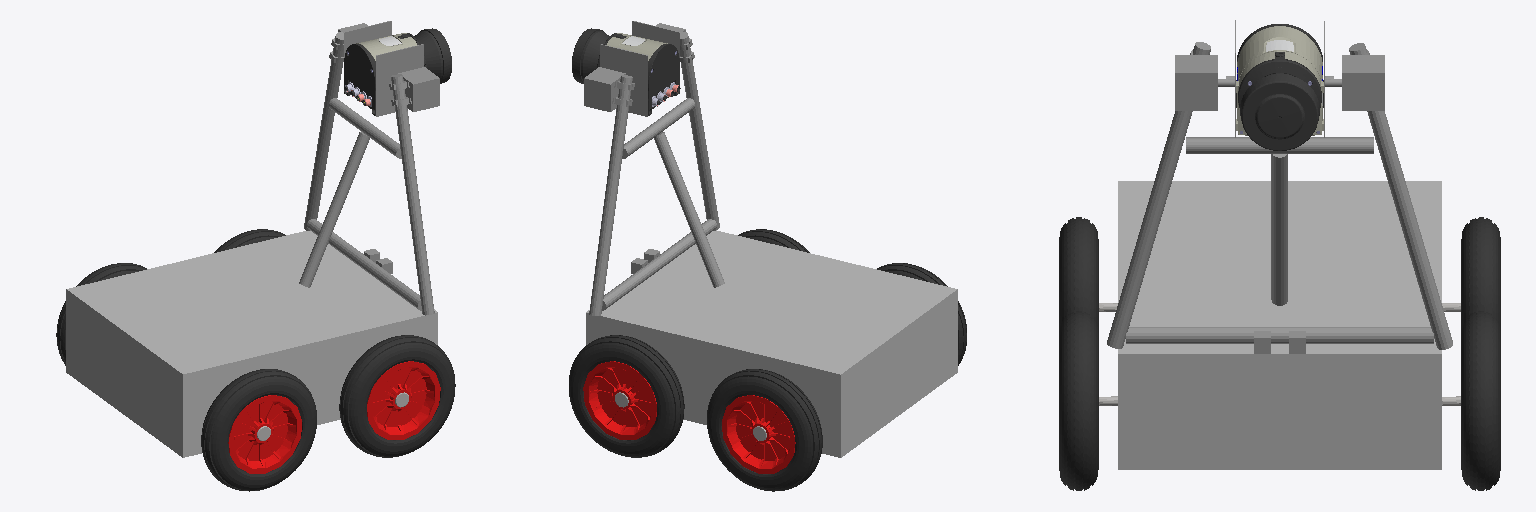
URDF robot description (example):
<?xml version="1.0" ?>
<robot name="example">

    <link name="chassis">
        <inertial>
            <mass value="6"/>
            <origin xyz="0 0 0" rpy="0 0 0"/>
            <inertia ixx="0.08500000" ixy="0" ixz="0" iyy="0.02500000" iyz="0" izz="0.10000000"/>
        </inertial>
        <collision name="chassis_collision">
            <origin xyz="0 0 0" rpy="0 0 0"/>
            <geometry>
                <mesh filename="package://example_description/meshes/rover.dae" scale="1 1 1"/>
            </geometry>
        </collision>
        <visual name="chassis_visual">
            <origin xyz="0 0 0" rpy="0 0 0"/>
            <geometry>
                <mesh filename="package://example_description/meshes/rover.dae" scale="1 1 1"/>
            </geometry>
        </visual>
    </link>

    <link name="dummy"/>
    <joint name="dummy_link" type="fixed">
        <parent link="chassis"/>
        <child link="dummy"/>
        <origin xyz="0 0 0" rpy="0 0 0"/>
    </joint>
    <!--Left Front Wheel-->

    <link name="left_front_wheel">
        <inertial>
            <mass value="0.5"/>
            <origin xyz="0 0 0" rpy="0 0 -1.570796"/>
            <inertia ixx="0.00357413" ixy="0" ixz="0" iyy="0.00508627" iyz="0" izz="0.00838547"/>
        </inertial>

        <collision name="left_front_wheel_collision">
            <origin xyz="0 0 0" rpy="0 0 -1.570796"/>
            <geometry>
                <mesh filename="package://example_description/meshes/wheel.dae" scale="1 1 1"/>
            </geometry>
            <surface>
                <friction>
                    <ode>
                        <mu>0.01</mu>
                        <mu2>0.01</mu2>
                    </ode>
                </friction>
            </surface>
        </collision>

        <visual name="left_front_wheel_visual">
            <origin xyz="0 0 0" rpy="0 0 -1.570796"/>
            <geometry>
                <mesh filename="package://example_description/meshes/wheel.dae" scale="1 1 1"/>
            </geometry>
        </visual>
    </link>

    <joint name="left_front_wheel_joint" type="revolute">
        <parent link="chassis"/>
        <child link="left_front_wheel"/>
        <origin xyz="1.3 1.9 0.35" rpy="0 0 0"/>
        <axis xyz="0 1 0"/>
        <limit lower="-9999999999999999" upper="9999999999999999" effort="2000.0" velocity="10.0"/>
    </joint>

    <transmission name="t_left_front_wheel">
        <type>transmission_interface/SimpleTransmission</type>
        <joint name="left_front_wheel_joint">
            <hardwareInterface>hardware_interface/VelocityJointInterface</hardwareInterface>
        </joint>
        <actuator name="m_left_front_wheel">
            <mechanicalReduction>1</mechanicalReduction>
            <hardwareInterface>hardware_interface/VelocityJointInterface</hardwareInterface>
        </actuator>
    </transmission>

    <!--Right Front Wheel-->
    <link name="right_front_wheel">
        <inertial>
            <mass value="0.5"/>
            <origin xyz="0 0 0" rpy="0 0 1.570796"/>
            <inertia ixx="0.00357413" ixy="0" ixz="0" iyy="0.00508627" iyz="0" izz="0.00838547"/>
        </inertial>

        <collision name="right_front_wheel_collision">
            <origin xyz="0 0 0" rpy="0 0 1.570796"/>
            <geometry>
                <mesh filename="package://example_description/meshes/wheel.dae" scale="1 1 1"/>
            </geometry>
            <surface>
                <friction>
                    <ode>
                        <mu>0.01</mu>
                        <mu2>0.01</mu2>
                    </ode>
                </friction>
            </surface>
        </collision>

        <visual name="right_front_wheel_visual">
            <origin xyz="0 0 0" rpy="0 0 1.570796"/>
            <geometry>
                <mesh filename="package://example_description/meshes/wheel.dae" scale="1 1 1"/>
            </geometry>
        </visual>
    </link>

    <joint name="right_front_wheel_joint" type="revolute">
        <parent link="chassis"/>
        <child link="right_front_wheel"/>
        <origin xyz="1.3 -1.9 0.35" rpy="0 0 0"/>
        <axis xyz="0 1 0"/>
        <limit lower="-9999999999999999" upper="9999999999999999" effort="2000.0" velocity="10.0"/>
    </joint>

    <transmission name="t_right_front_wheel">
        <type>transmission_interface/SimpleTransmission</type>
        <joint name="right_front_wheel_joint">
            <hardwareInterface>hardware_interface/VelocityJointInterface</hardwareInterface>
        </joint>
        <actuator name="m_right_front_wheel">
            <mechanicalReduction>1</mechanicalReduction>
            <hardwareInterface>hardware_interface/VelocityJointInterface</hardwareInterface>
        </actuator>
    </transmission>

    <!--Left Back Wheel-->
    <link name="left_back_wheel">
        <inertial>
            <mass value="0.5"/>
            <origin xyz="0 0 0" rpy="0 0 -1.570796"/>
            <inertia ixx="0.00357413" ixy="0" ixz="0" iyy="0.00508627" iyz="0" izz="0.00838547"/>
        </inertial>

        <collision name="left_back_wheel_collision">
            <origin xyz="0 0 0" rpy="0 0 -1.570796"/>
            <geometry>
                <mesh filename="package://example_description/meshes/wheel.dae" scale="1 1 1"/>
            </geometry>
            <surface>
                <friction>
                    <ode>
                        <mu>0.01</mu>
                        <mu2>0.01</mu2>
                    </ode>
                </friction>
            </surface>
        </collision>

        <visual name="left_back_wheel_visual">
            <origin xyz="0 0 0" rpy="0 0 -1.570796"/>
            <geometry>
                <mesh filename="package://example_description/meshes/wheel.dae" scale="1 1 1"/>
            </geometry>
        </visual>
    </link>

    <joint name="left_back_wheel_joint" type="revolute">
        <parent link="chassis"/>
        <child link="left_back_wheel"/>
        <origin xyz="-1.3 1.9 0.35" rpy="0 0 0"/>
        <axis xyz="0 1 0"/>
        <limit lower="-9999999999999999" upper="9999999999999999" effort="2000.0" velocity="10.0"/>
    </joint>

    <transmission name="t_left_back_wheel">
        <type>transmission_interface/SimpleTransmission</type>
        <joint name="left_back_wheel_joint">
            <hardwareInterface>hardware_interface/VelocityJointInterface</hardwareInterface>
        </joint>
        <actuator name="m_left_back_wheel">
            <mechanicalReduction>1</mechanicalReduction>
            <hardwareInterface>hardware_interface/VelocityJointInterface</hardwareInterface>
        </actuator>
    </transmission>

    <!--Right Back Wheel-->
    <link name="right_back_wheel">
        <inertial>
            <mass value="0.5"/>
            <origin xyz="0 0 0" rpy="0 0 1.570796"/>
            <inertia ixx="0.00357413" ixy="0" ixz="0" iyy="0.00508627" iyz="0" izz="0.00838547"/>
        </inertial>

        <collision name="right_back_wheel_collision">
            <origin xyz="0 0 0" rpy="0 0 1.570796"/>
            <geometry>
                <mesh filename="package://example_description/meshes/wheel.dae" scale="1 1 1"/>
            </geometry>
            <surface>
                <friction>
                    <ode>
                        <mu>0.01</mu>
                        <mu2>0.01</mu2>
                    </ode>
                </friction>
            </surface>
        </collision>

        <visual name="right_back_wheel_visual">
            <origin xyz="0 0 0" rpy="0 0 1.570796"/>
            <geometry>
                <mesh filename="package://example_description/meshes/wheel.dae" scale="1 1 1"/>
            </geometry>
        </visual>
    </link>

    <joint name="right_back_wheel_joint" type="revolute">
        <parent link="chassis"/>
        <child link="right_back_wheel"/>
        <origin xyz="-1.3 -1.9 0.35" rpy="0 0 0"/>
        <axis xyz="0 1 0"/>
        <limit lower="-9999999999999999" upper="9999999999999999" effort="2000.0" velocity="10.0"/>
    </joint>

    <transmission name="t_right_back_wheel">
        <type>transmission_interface/SimpleTransmission</type>
        <joint name="right_back_wheel_joint">
            <hardwareInterface>hardware_interface/VelocityJointInterface</hardwareInterface>
        </joint>
        <actuator name="m_right_back_wheel">
            <mechanicalReduction>1</mechanicalReduction>
            <hardwareInterface>hardware_interface/VelocityJointInterface</hardwareInterface>
        </actuator>
    </transmission>

    <!--Frame-->

    <link name="Frame">
        <inertial>
            <mass value="0.5"/>
            <origin xyz="0 0 0" rpy="0 0 1.570796"/>
            <inertia ixx="0.00357413" ixy="0" ixz="0" iyy="0.00508627" iyz="0" izz="0.00838547"/>
        </inertial>

        <collision name="Frame_collision">
            <origin xyz="0 0 0" rpy="0 0 1.570796"/>
            <geometry>
                <mesh filename="package://example_description/meshes/frame.dae" scale="1 1 1"/>
            </geometry>
            <surface>
                <friction>
                    <ode>
                        <mu>0.01</mu>
                        <mu2>0.01</mu2>
                    </ode>
                </friction>
            </surface>
        </collision>

        <visual name="Frame_visual">
            <origin xyz="0 0 0" rpy="0 0 1.570796"/>
            <geometry>
                <mesh filename="package://example_description/meshes/frame.dae" scale="1 1 1"/>
            </geometry>
        </visual>
    </link>

    <joint name="Frame_joint" type="fixed">
        <parent link="chassis"/>
        <child link="Frame"/>
        <origin xyz="2.4 0 1.5" rpy="0 -1.570796 0"/>
        <axis xyz="0 1 0"/>
    </joint>

    <!--Lidar-->

    <link name="lidar">
        <inertial>
            <mass value="0.05"/>
            <origin xyz="0.9743 0 0" rpy="0 0 1.570796"/>
            <inertia ixx="0.00357413" ixy="0" ixz="0" iyy="0.00508627" iyz="0" izz="0.00838547"/>
        </inertial>

        <collision name="lidar_collision">
            <origin xyz="0.9743 0 0" rpy="0 0 1.570796"/>
            <geometry>
                <mesh filename="package://example_description/meshes/lidar.dae" scale="1 1 1"/>
            </geometry>
            <surface>
                <friction>
                    <ode>
                        <mu>0.01</mu>
                        <mu2>0.01</mu2>
                    </ode>
                </friction>
            </surface>
        </collision>

        <visual name="lidar_visual">
            <origin xyz="0.9743 0 0" rpy="0 0 1.570796"/>
            <geometry>
                <mesh filename="package://example_description/meshes/lidar.dae" scale="1 1 1"/>
            </geometry>
        </visual>
    </link>

    <joint name="lidar_joint" type="revolute">
        <parent link="chassis"/>
        <child link="lidar"/>
        <origin xyz="2.49 0 5.05141" rpy="0 0 0"/>
        <axis xyz="0 1 0"/>
        <limit lower="-1.570796" upper="1.570796" effort="2000.0" velocity="10.0"/>
    </joint>

    <gazebo reference="lidar">
        <sensor type="gpu_ray" name="lidar_sensor">
            <pose>0.98 0 0 0 0 0</pose>
            <visualize>true</visualize>
            <update_rate>60</update_rate>
            <ray>
                <scan>
                    <horizontal>
                        <samples>64</samples>
                        <resolution>1</resolution>
                        <min_angle>-1.570796</min_angle>
                        <max_angle>1.570796</max_angle>
                    </horizontal>
                </scan>
                <range>
                    <min>0.0001</min>
                    <max>120.0</max>
                    <resolution>0.01</resolution>
                </range>
                <noise>
                    <type>gaussian</type>
                    <!-- Noise parameters based on published spec for Hokuyo laser
                achieving "+-30mm" accuracy at range < 10m.  A mean of 0.0m and
                stddev of 0.01m will put 99.7% of samples within 0.03m of the true
                reading. -->
                    <mean>0.0</mean>
                    <stddev>0.01</stddev>
                </noise>
            </ray>
            <plugin name="gazebo_ros_head_hokuyo_controller" filename="libgazebo_ros_gpu_laser.so">
                <topicName>/example/laser/scan</topicName>
                <frameName>lidar</frameName>
            </plugin>
        </sensor>
    </gazebo>

    <transmission name="t_lidar_joint">
        <type>transmission_interface/SimpleTransmission</type>
        <joint name="lidar_joint">
            <hardwareInterface>hardware_interface/VelocityJointInterface</hardwareInterface>
        </joint>
        <actuator name="m_lidar_joint">
            <mechanicalReduction>1</mechanicalReduction>
            <hardwareInterface>hardware_interface/VelocityJointInterface</hardwareInterface>
        </actuator>
    </transmission>

    <!-- <gazebo>
        <plugin name="skid_steer_drive_controller" filename="libgazebo_ros_skid_steer_drive.so">
            <updateRate>100.0</updateRate>
            <robotNamespace>/skid</robotNamespace>
            <leftFrontJoint>left_front_wheel_joint</leftFrontJoint>
            <rightFrontJoint>right_front_wheel_joint</rightFrontJoint>
            <leftRearJoint>left_back_wheel_joint</leftRearJoint>
            <rightRearJoint>right_back_wheel_joint</rightRearJoint>
            <wheelSeparation>3.2</wheelSeparation>
            <wheelDiameter>2.1</wheelDiameter>
            <robotBaseFrame>chassis</robotBaseFrame>
            <torque>20</torque>
            <topicName>cmd_vel</topicName>
            <broadcastTF>true</broadcastTF>
        </plugin>
    </gazebo> -->

    <!-- Camera 1-->

    <link name="camera_1_link">
    </link>

    <joint name="camera_1_joint" type="fixed">
        <axis xyz="0 1 0" />
        <origin xyz="2.4 0.2 1.5" rpy="0 0 0"/>
        <parent link="chassis"/>
        <child link="camera_1_link"/>
    </joint>

    <gazebo reference="camera_1_link">
        <sensor type="camera" name="camera1">
            <update_rate>30.0</update_rate>
            <camera name="head">
                <horizontal_fov>1.3962634</horizontal_fov>
                <image>
                    <width>800</width>
                    <height>800</height>
                    <format>rgb8</format>
                </image>
                <clip>
                    <near>0.02</near>
                    <far>300</far>
                </clip>
                <noise>
                    <type>gaussian</type>
                    <!-- Noise is sampled independently per pixel on each frame.
               That pixel's noise value is added to each of its color
               channels, which at that point lie in the range [0,1]. -->
                    <mean>0.0</mean>
                    <stddev>0.007</stddev>
                </noise>
            </camera>
            <plugin name="camera_controller" filename="libgazebo_ros_camera.so">
                <alwaysOn>true</alwaysOn>
                <updateRate>30.0</updateRate>
                <cameraName>example/camera1</cameraName>
                <imageTopicName>image_raw</imageTopicName>
                <cameraInfoTopicName>camera_info</cameraInfoTopicName>
                <frameName>camera_link</frameName>
                <hackBaseline>0.07</hackBaseline>
                <distortionK1>0.0</distortionK1>
                <distortionK2>0.0</distortionK2>
                <distortionK3>0.0</distortionK3>
                <distortionT1>0.0</distortionT1>
                <distortionT2>0.0</distortionT2>
            </plugin>
        </sensor>
    </gazebo>

    <!-- Camera 2-->

    <link name="camera_2_link">
    </link>

    <joint name="camera_2_joint" type="fixed">
        <axis xyz="0 1 0" />
        <origin xyz="2.4 -0.2 1.5" rpy="0 0 0"/>
        <parent link="chassis"/>
        <child link="camera_2_link"/>
    </joint>

    <gazebo reference="camera_2_link">
        <sensor type="camera" name="camera2">
            <update_rate>30.0</update_rate>
            <camera name="head">
                <horizontal_fov>1.3962634</horizontal_fov>
                <image>
                    <width>800</width>
                    <height>800</height>
                    <format>R8G8B8</format>
                </image>
                <clip>
                    <near>0.02</near>
                    <far>300</far>
                </clip>
                <noise>
                    <type>gaussian</type>
                    <!-- Noise is sampled independently per pixel on each frame.
               That pixel's noise value is added to each of its color
               channels, which at that point lie in the range [0,1]. -->
                    <mean>0.0</mean>
                    <stddev>0.007</stddev>
                </noise>
            </camera>
            <plugin name="camera_controller" filename="libgazebo_ros_camera.so">
                <alwaysOn>true</alwaysOn>
                <updateRate>5.0</updateRate>
                <cameraName>example/camera2</cameraName>
                <imageTopicName>image_raw</imageTopicName>
                <cameraInfoTopicName>camera_info</cameraInfoTopicName>
                <frameName>camera_link</frameName>
                <hackBaseline>0.07</hackBaseline>
                <distortionK1>0.0</distortionK1>
                <distortionK2>0.0</distortionK2>
                <distortionK3>0.0</distortionK3>
                <distortionT1>0.0</distortionT1>
                <distortionT2>0.0</distortionT2>
            </plugin>
        </sensor>
    </gazebo>


    <gazebo>
        <plugin name="gazebo_ros_control" filename="libgazebo_ros_control.so">
            <robotNamespace>/example</robotNamespace>
        </plugin>
    </gazebo>

    <plugin name="rover_telemetries" filename="librover_telemetries.so">
        <robotNamespace>/slet</robotNamespace>
    </plugin>





</robot>

--- Facts derived from the render (not from the file) ---
3 views of the same robot in one strip: view 1: azimuth 30°, elevation 25°; view 2: azimuth 150°, elevation 25°; view 3: azimuth 270°, elevation 25° (orthographic).
Model example with 10 links and 9 joints (5 revolute, 4 fixed), rooted at chassis, posed every joint at zero.
Visible links, largest first — view 1: chassis, Frame, right_front_wheel, right_back_wheel, lidar, left_back_wheel, left_front_wheel; view 2: chassis, Frame, left_front_wheel, left_back_wheel, lidar, right_back_wheel, right_front_wheel; view 3: chassis, Frame, lidar, right_front_wheel, left_front_wheel, left_back_wheel, right_back_wheel.
Boxes of the visible links, x1,y1,x2,y2 form: chassis: [66, 231, 437, 457]; Frame: [299, 23, 439, 315]; right_front_wheel: [339, 335, 455, 457]; right_back_wheel: [201, 369, 316, 491]; lidar: [344, 21, 451, 116]; left_back_wheel: [56, 263, 146, 365]; left_front_wheel: [214, 229, 285, 252]; chassis: [586, 230, 957, 457]; Frame: [584, 23, 724, 315]; left_front_wheel: [569, 335, 684, 457]; left_back_wheel: [707, 369, 822, 491]; lidar: [572, 21, 680, 116]; right_back_wheel: [877, 263, 966, 365]; right_front_wheel: [738, 229, 809, 252]; chassis: [1118, 181, 1441, 469]; Frame: [1107, 42, 1452, 353]; lidar: [1226, 20, 1333, 150]; right_front_wheel: [1059, 311, 1117, 490]; left_front_wheel: [1442, 311, 1500, 490]; left_back_wheel: [1442, 217, 1500, 332]; right_back_wheel: [1059, 217, 1117, 332].
Bounding box of the posed robot: 5.94 × 5.17 × 6.28 m (x, y, z).
7 mesh visuals loaded from 4 distinct referenced files (4 Collada DAE).